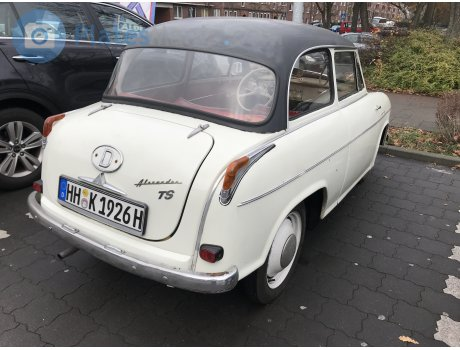License Plates: (66, 182, 143, 226)
